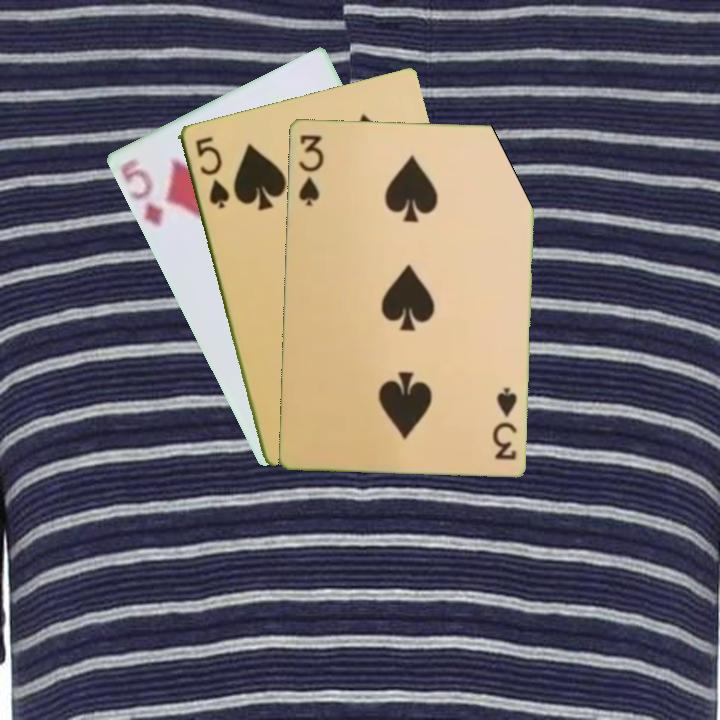3s: (488, 383, 519, 463), (295, 131, 326, 209)
5d: (116, 154, 166, 230)
5s: (191, 132, 232, 212)
